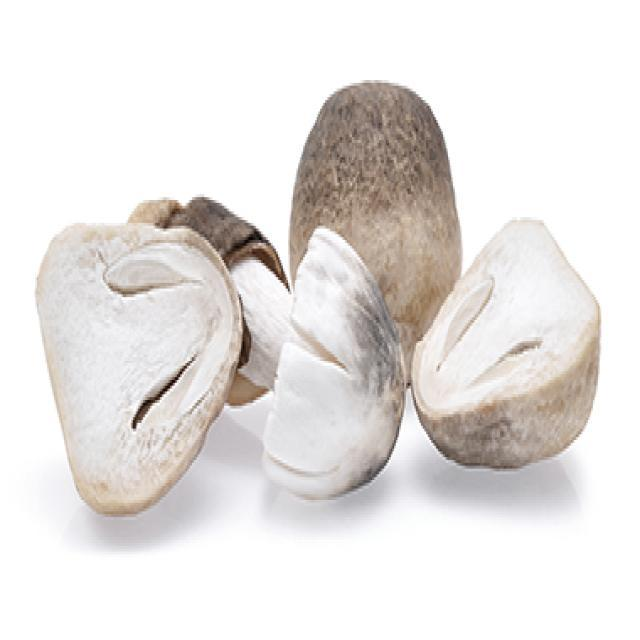Mushroom: (38, 79, 602, 522), (36, 220, 242, 514), (408, 212, 600, 468), (240, 223, 409, 506)
